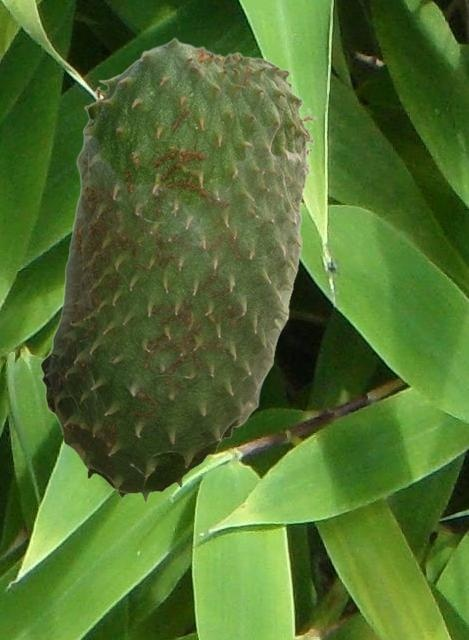guyabano: (37, 36, 316, 501)
